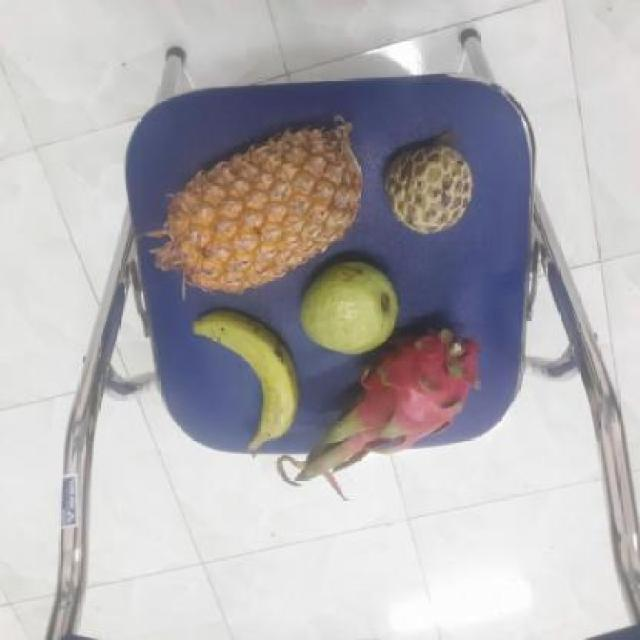banana: (188, 308, 300, 448)
dragon fruit: (339, 330, 473, 452)
guava: (296, 260, 401, 357)
pineapple: (155, 120, 360, 294)
sugar apple: (379, 140, 473, 232)
